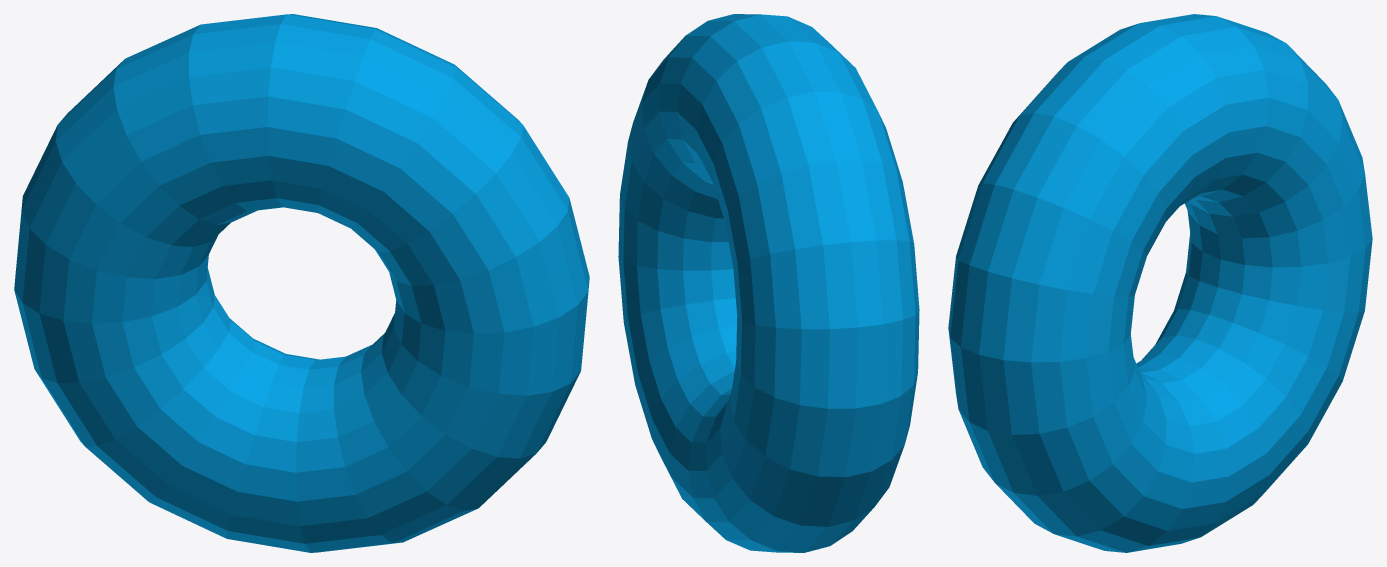
The model's file is Teleport.obj.
The picture shows the model from 3 angles, left to right: view 1: azimuth 30°, elevation 25°; view 2: azimuth 150°, elevation 25°; view 3: azimuth 270°, elevation 25°; orthographic projection. The views are drawn at different scales.
Parts seen in each view (by area): view 1: pTorus1; view 2: pTorus1; view 3: pTorus1.
Boxes of the visible parts, box(x1,y1,x2,y2) form: pTorus1: box(14, 14, 589, 552); pTorus1: box(618, 14, 919, 552); pTorus1: box(948, 14, 1372, 552).
Size of the model in its own units: 2.49 by 2.99 by 2.32.
Materials: 1 (1 with a texture image).
